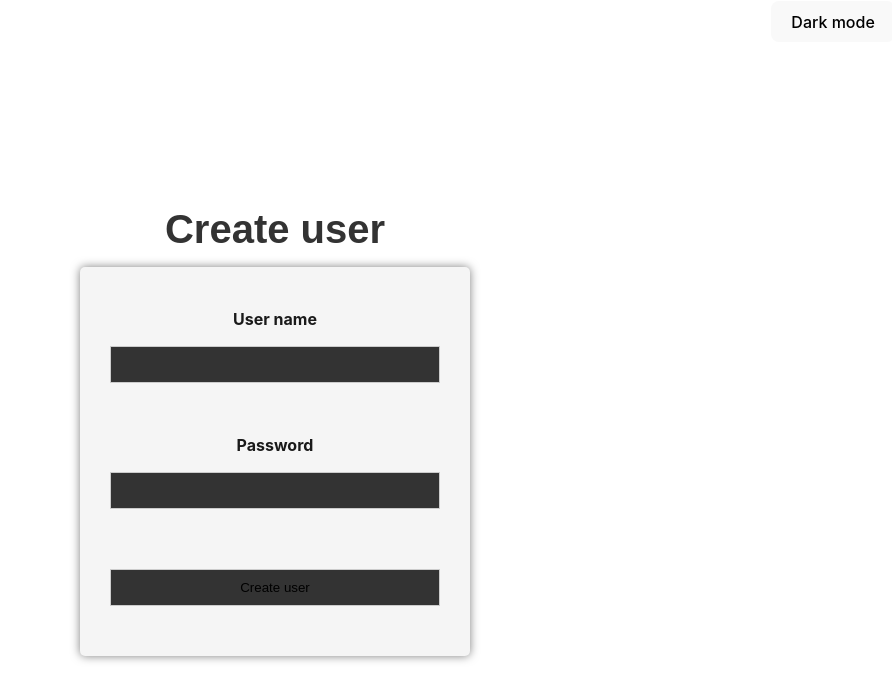
Test case: App › should render success message after successful submit
In the field labelled "User name": (275, 364) [110,346,440,382], type "John"
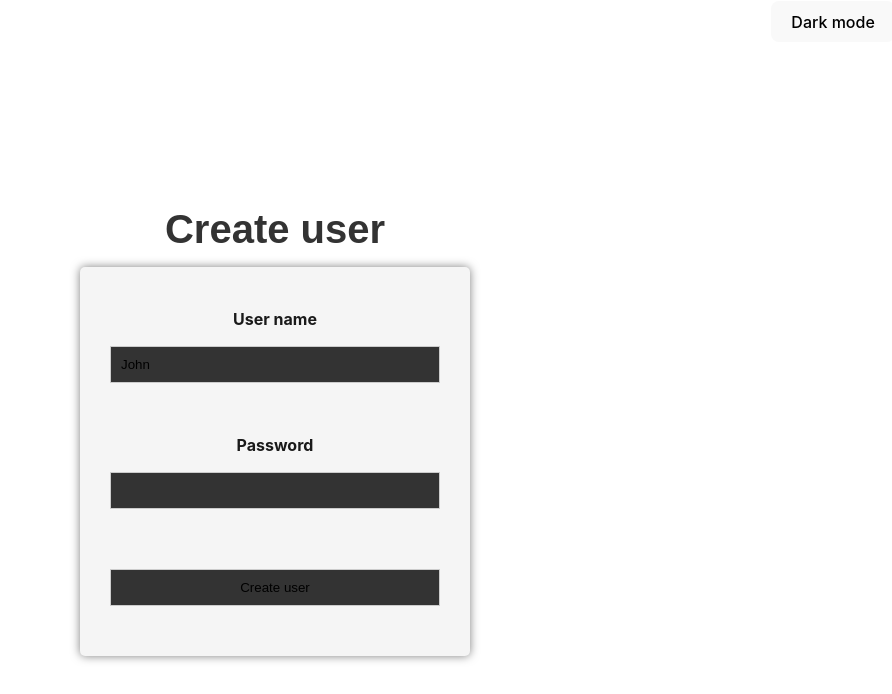
In the password field labelled "Password": (275, 490) [110,472,440,508], type "Qwerty123!"
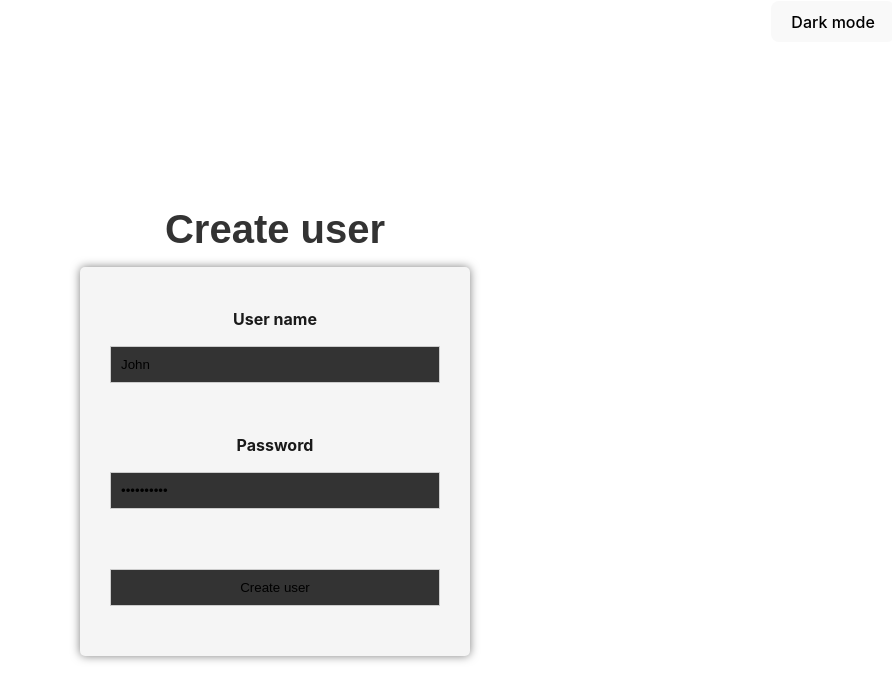
Click the button "Create user": (275, 587) [110,568,440,606]
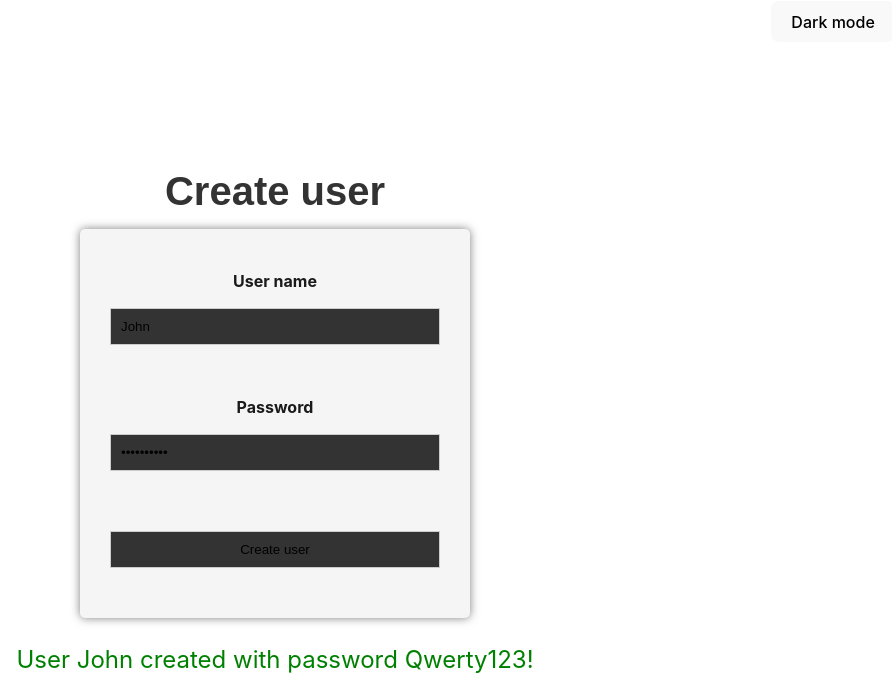
Check: the text "User John created with password Qwerty123!" is shown, box [16,642,534,678]
